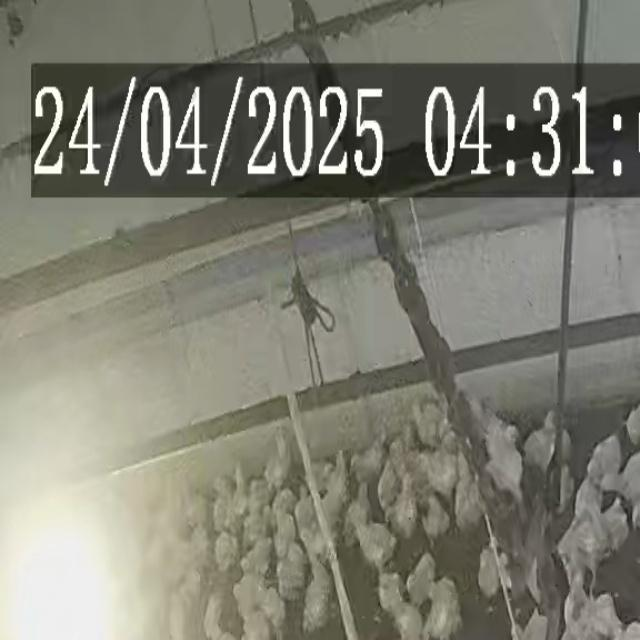chicken: (357, 520, 398, 576), (407, 549, 438, 605), (474, 544, 501, 602)
